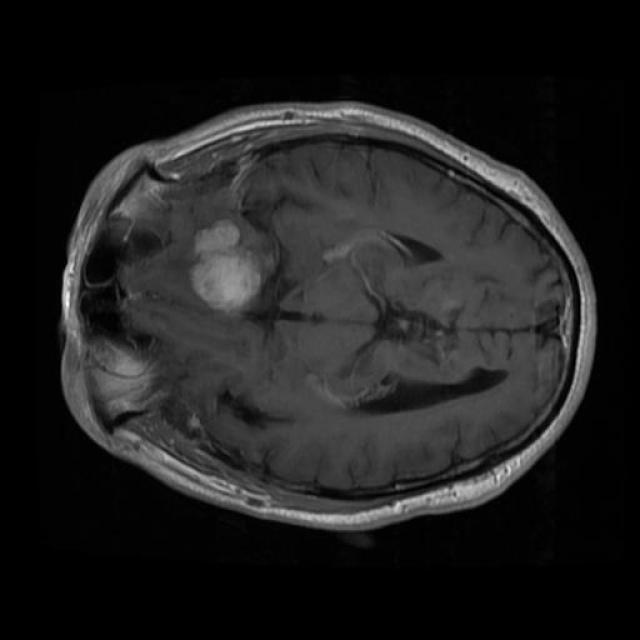Meningioma: (187, 213, 279, 315)
